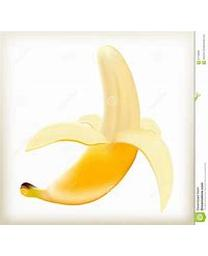banana: (19, 47, 176, 212)
